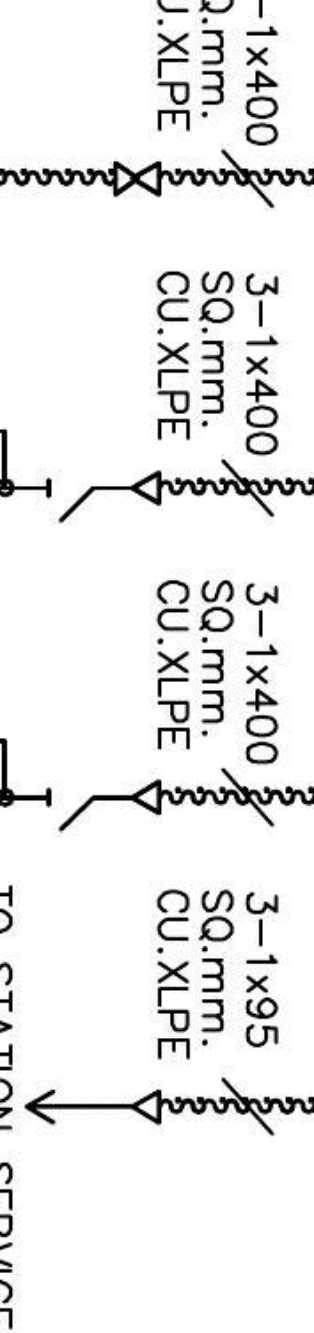terminator_single: (131, 1088, 164, 1128), (130, 777, 163, 817), (131, 468, 164, 508)
terminator_splicing_kits: (113, 160, 163, 197)
